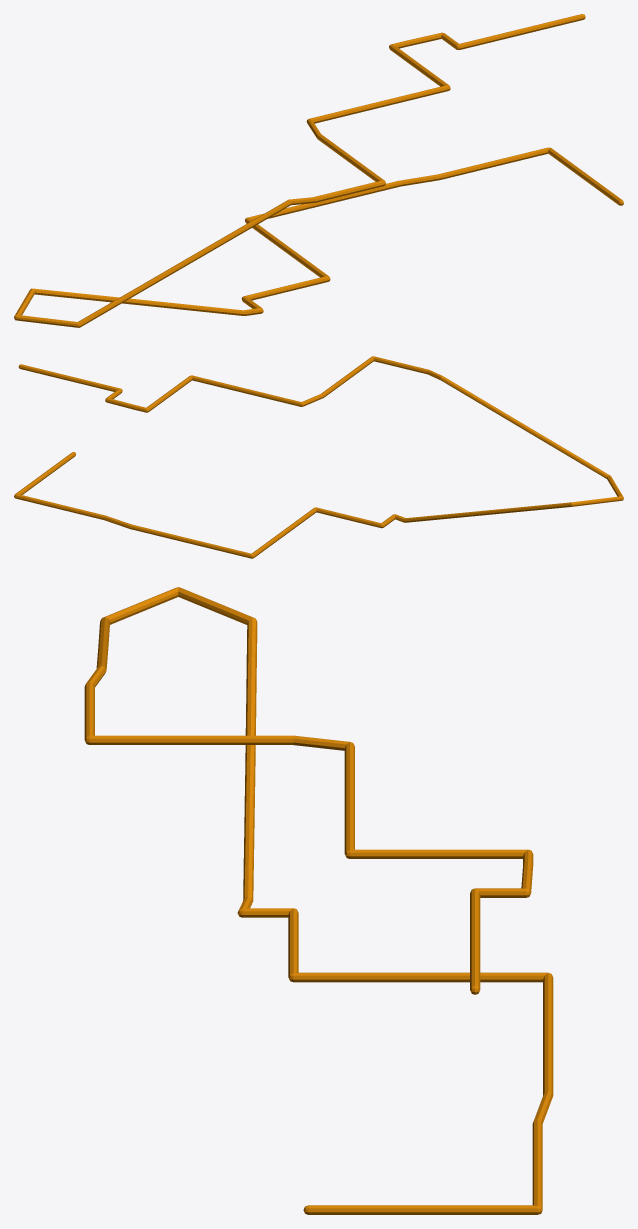
The picture shows the model from 3 angles, top to bottom: view 1: azimuth 30°, elevation 25°; view 2: azimuth 150°, elevation 25°; view 3: azimuth 270°, elevation 25°; orthographic projection. The views are drawn at different scales.
Bounding box in the file's own units: 2406 × 520 × 920.
